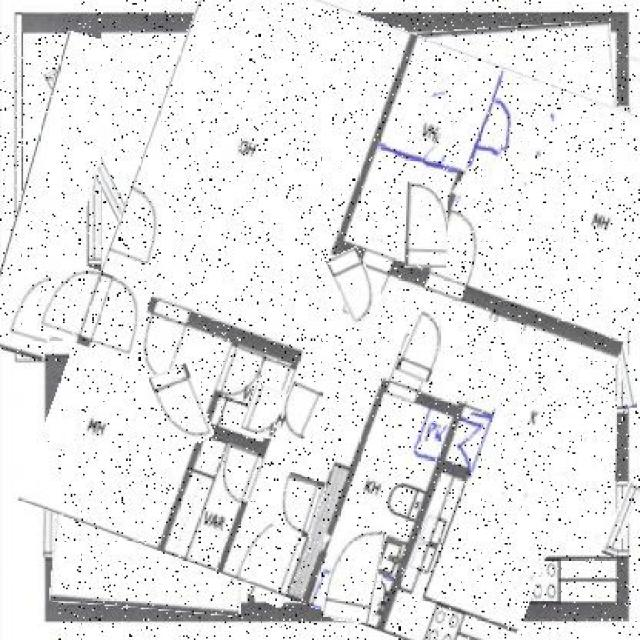door: (58, 0, 640, 640), (406, 25, 620, 249), (54, 378, 252, 611), (2, 32, 109, 360), (389, 378, 498, 604), (314, 28, 412, 152), (309, 144, 409, 256), (242, 477, 323, 605), (246, 380, 317, 469)
window: (39, 263, 148, 354), (328, 518, 383, 622), (155, 366, 208, 448), (406, 182, 448, 268), (400, 310, 448, 382), (334, 248, 380, 323), (277, 475, 323, 537), (278, 383, 320, 437), (245, 386, 286, 437)
zone: (66, 66, 125, 257), (611, 288, 632, 409), (608, 482, 635, 558), (43, 432, 57, 557), (617, 106, 629, 229)
